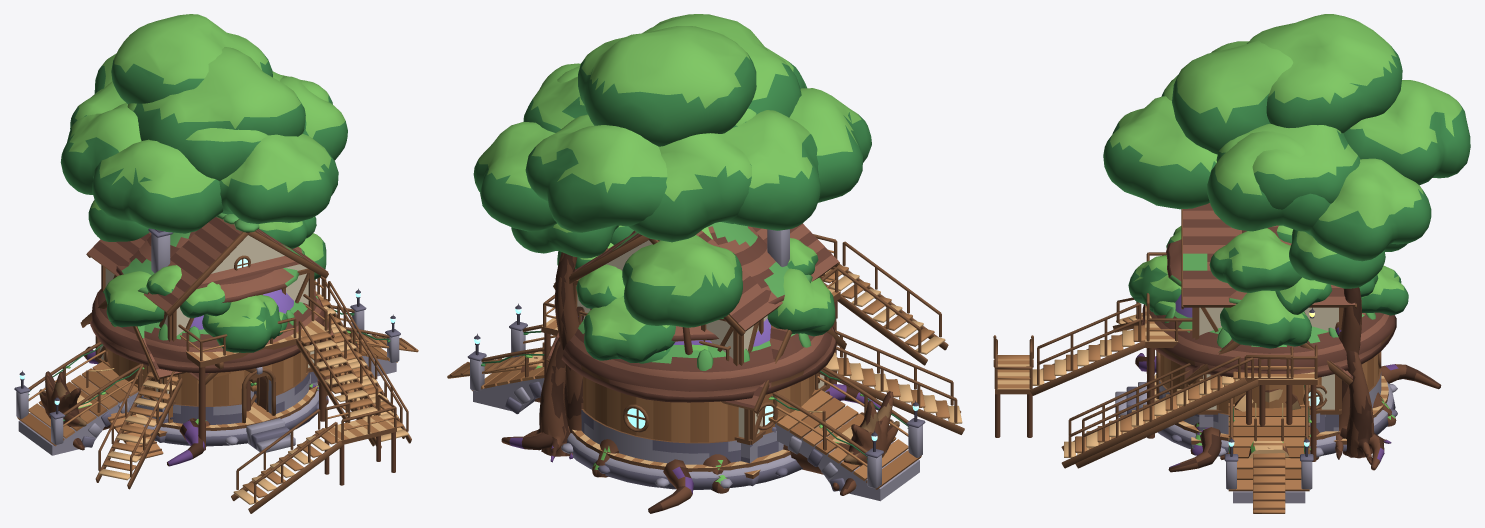
The model's file is elderglow_village.glb.
3 views of the same model, side by side, from view 1: azimuth 30°, elevation 25°; view 2: azimuth 150°, elevation 25°; view 3: azimuth 270°, elevation 25° (orthographic). The views are drawn at different scales.
Parts seen in each view (by area): view 1: EG_House_H, EG_House_D, EG_House_D_canopy4, EG_House_D_canopy2, EG_Bridge_Arch, EG_Oak_B, EG_House_H_canopy4, EG_House_D_canopy3, EG_House_F_roof, EG_House_D_roof, EG_House_B, EG_House_H_canopy1 (+14 smaller); view 2: EG_House_D, EG_House_H_canopy4, EG_Bridge_Arch, EG_House_H_canopy2, EG_House_D_roof, EG_Oak_B, EG_House_G_canopy0, EG_House_D_canopy1, EG_House_H_canopy1, EG_House_B, EG_House_B_canopy1, EG_House_D_canopy2 (+13 smaller); view 3: EG_House_H_canopy4, EG_House_D_canopy4, EG_Oak_B, EG_House_D_canopy3, EG_House_H_canopy2, EG_House_D, EG_House_B_canopy1, EG_House_H, EG_House_D_roof, EG_House_D_canopy0, EG_House_C, EG_House_H_canopy0 (+13 smaller).
Boxes of the visible parts, x1,y1,x2,y2 form: EG_House_H: (178,294,396,513); EG_House_D: (84,346,336,466); EG_House_D_canopy4: (133,47,305,149); EG_House_D_canopy2: (92,139,223,233); EG_Bridge_Arch: (14,288,400,455); EG_Oak_B: (104,233,326,352); EG_House_H_canopy4: (111,14,272,103); EG_House_D_canopy3: (219,133,338,223); EG_House_F_roof: (86,213,328,316); EG_House_D_roof: (90,286,324,372); EG_House_B: (95,363,268,489); EG_House_H_canopy1: (60,103,141,194); EG_House_D: (501,374,880,513); EG_House_H_canopy4: (578,26,756,146); EG_Bridge_Arch: (467,303,925,501); EG_House_H_canopy2: (525,114,667,232); EG_House_D_roof: (561,320,836,402); EG_Oak_B: (557,238,835,362); EG_House_G_canopy0: (622,235,742,327); EG_House_D_canopy1: (628,133,751,242); EG_House_H_canopy1: (720,110,820,230); EG_House_B: (554,252,964,459); EG_House_B_canopy1: (473,122,556,231); EG_House_D_canopy2: (789,88,871,202); EG_House_H_canopy4: (1247,14,1402,133); EG_House_D_canopy4: (1172,40,1293,154); EG_Oak_B: (1128,226,1408,348); EG_House_D_canopy3: (1103,96,1217,209); EG_House_H_canopy2: (1343,80,1470,185); EG_House_D: (1115,351,1441,472); EG_House_B_canopy1: (1305,158,1431,261); EG_House_H: (993,252,1192,438); EG_House_D_roof: (1141,304,1396,377); EG_House_D_canopy0: (1207,131,1330,231); EG_House_C: (1061,346,1293,468); EG_House_H_canopy0: (1216,123,1360,209).
Size of the model in its own units: 17.51 by 16.04 by 17.75.
